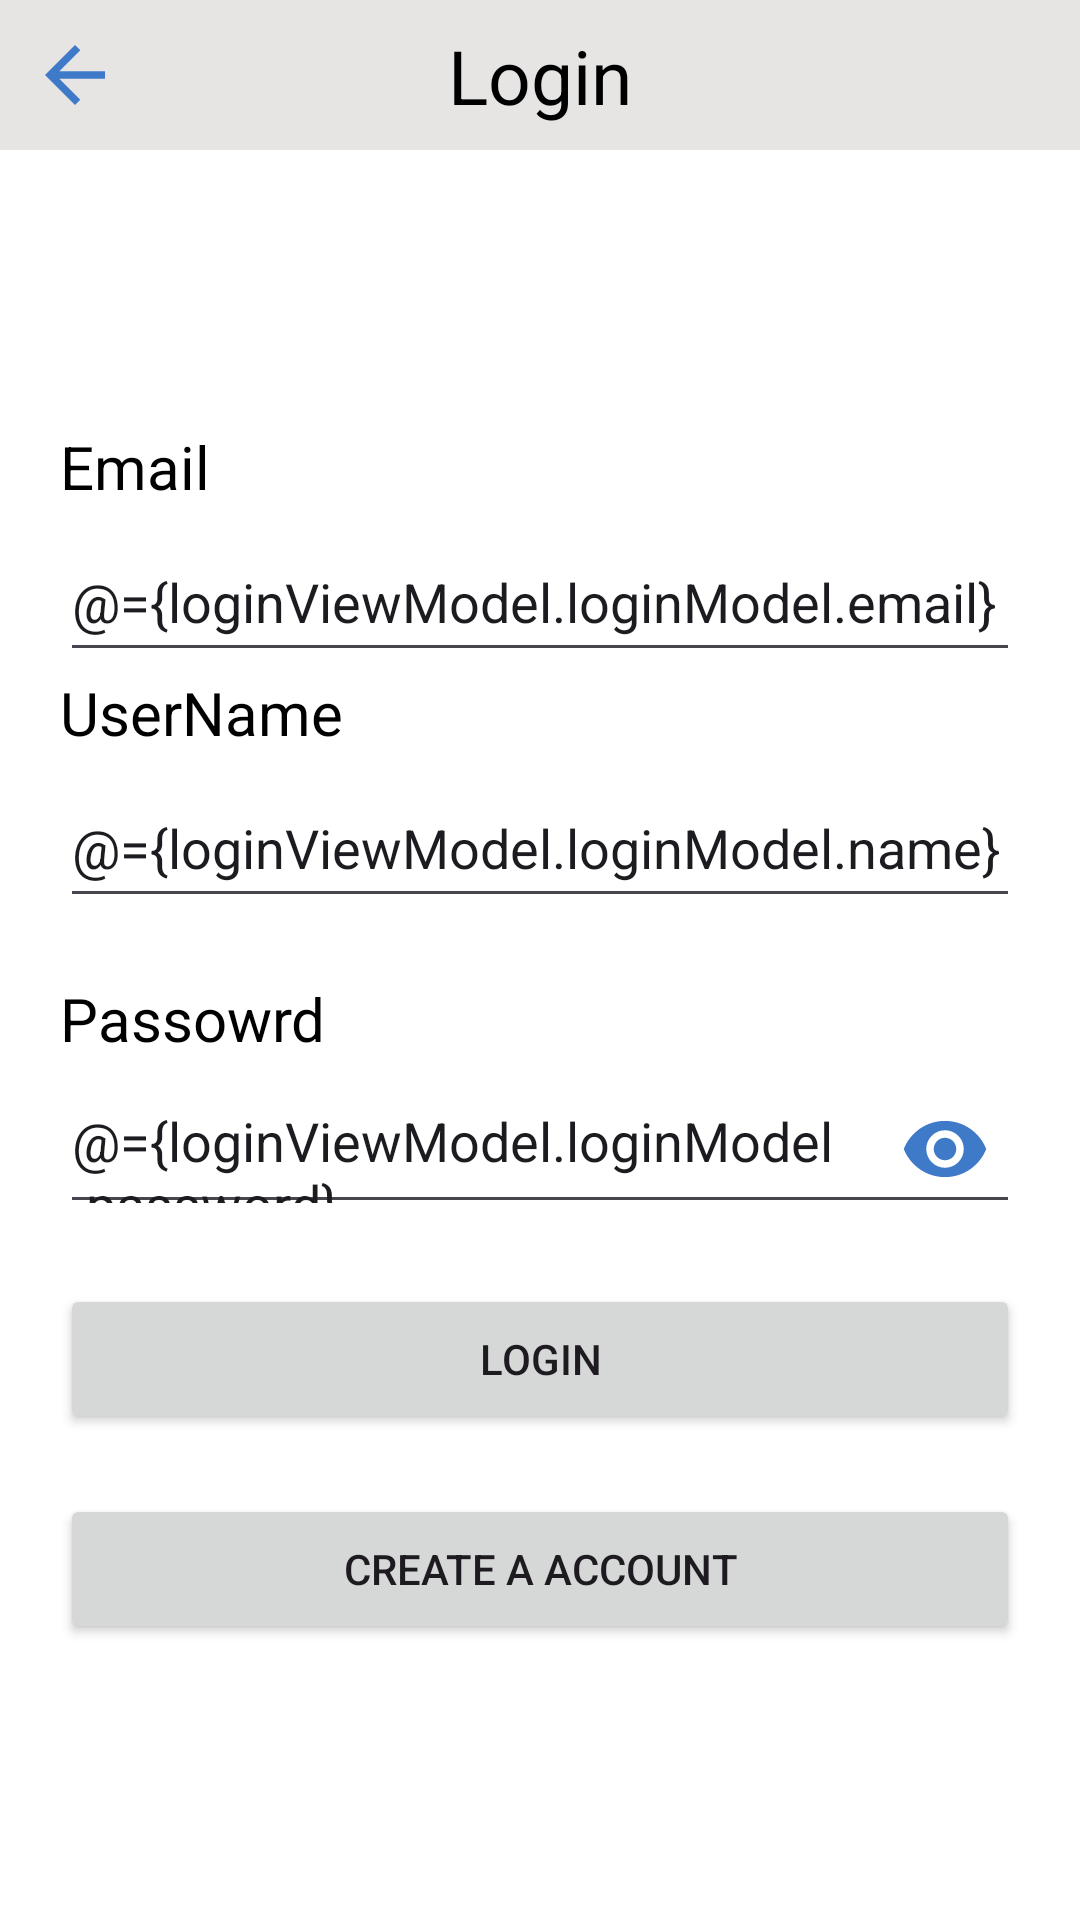

Locate icon controls on the screen. Image size 1080×1920, boxes as (x1, y1, x2, y2).
arrow back: (45, 45, 105, 105)
